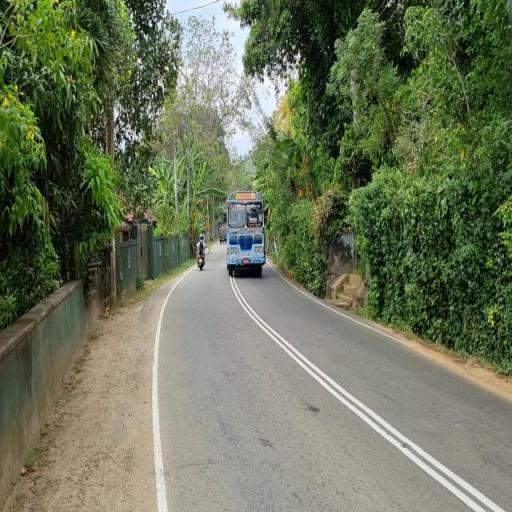double_white_line: (228, 279, 509, 512)
